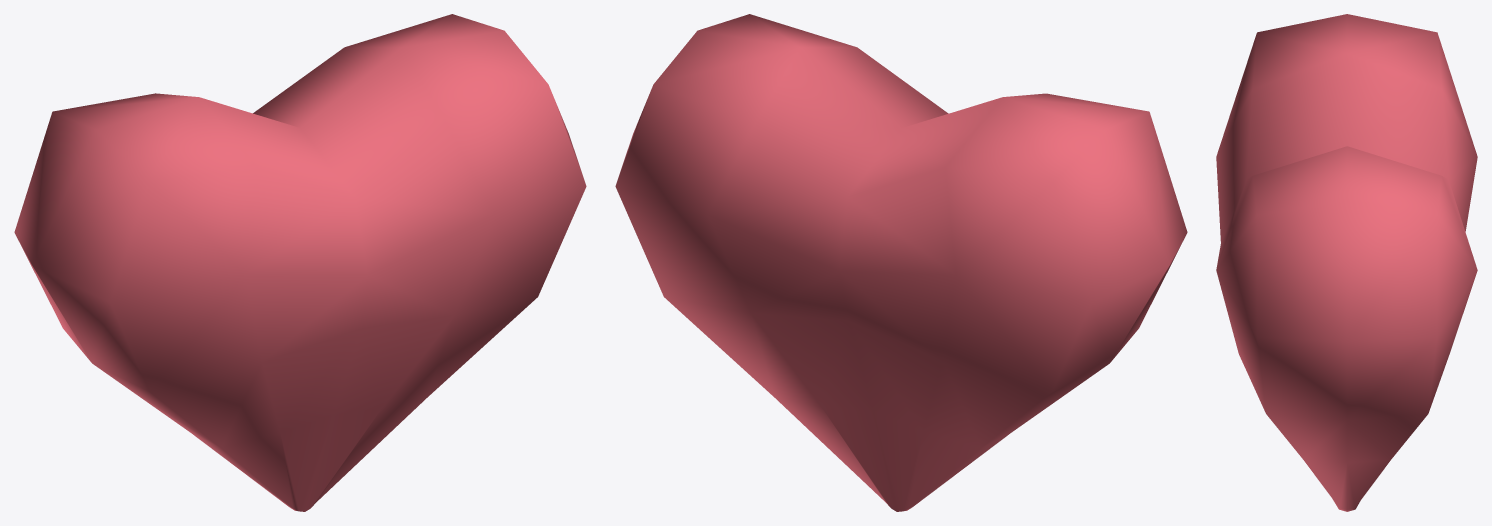
File: heart.fbx
The picture shows the model from 3 angles, left to right: view 1: azimuth 30°, elevation 25°; view 2: azimuth 150°, elevation 25°; view 3: azimuth 270°, elevation 25°; orthographic projection. The views are drawn at different scales.
Visible parts, largest first — view 1: pCube3; view 2: pCube3; view 3: pCube3.
Part boxes in pixels (box(x1,y1,x2,y2)): pCube3: box(14, 14, 586, 511); pCube3: box(615, 14, 1187, 511); pCube3: box(1216, 14, 1477, 511).
Size of the model in its own units: 30.16 by 23.57 by 13.57.
